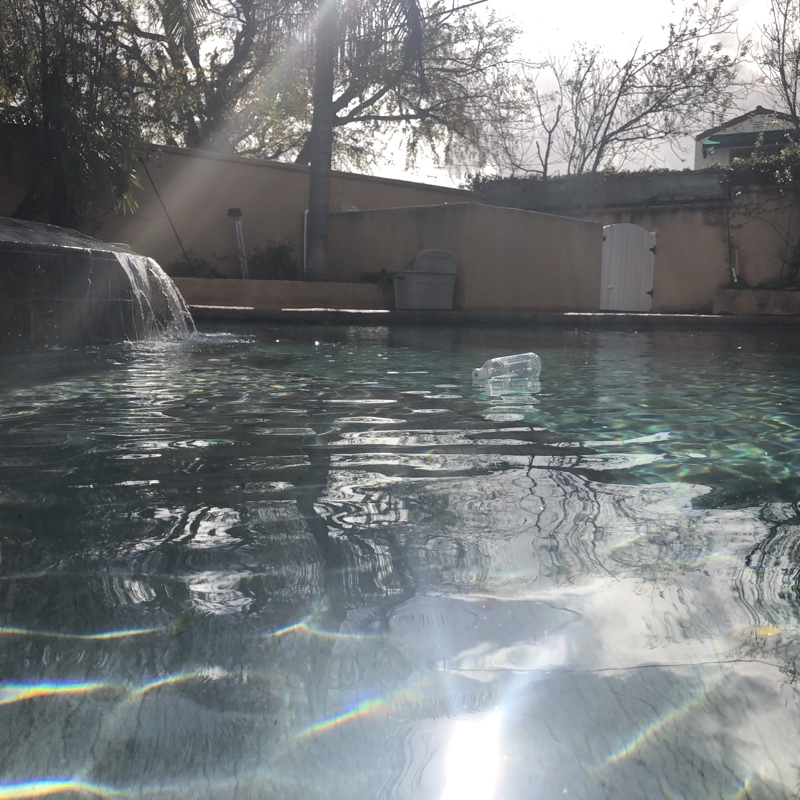Plastic Bottle: (468, 350, 544, 389)
